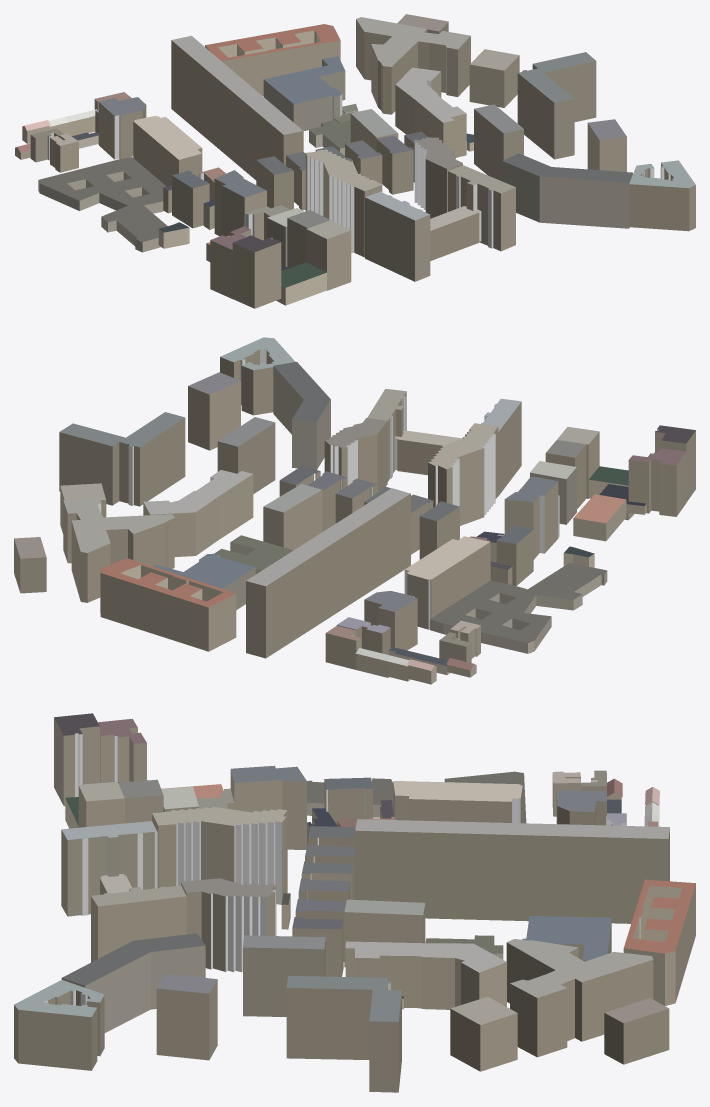
3 renders of one model, top to bottom at view 1: azimuth 30°, elevation 25°; view 2: azimuth 150°, elevation 25°; view 3: azimuth 270°, elevation 25°, orthographic. The views are drawn at different scales.
Visible parts, largest first — view 1: tuile; view 2: tuile; view 3: tuile.
Boxes of the visible parts, <box> form: tuile: <box>15,14,695,308</box>; tuile: <box>14,337,695,684</box>; tuile: <box>14,713,695,1092</box>.
Size of the model in its own units: 289 by 42.58 by 274.
